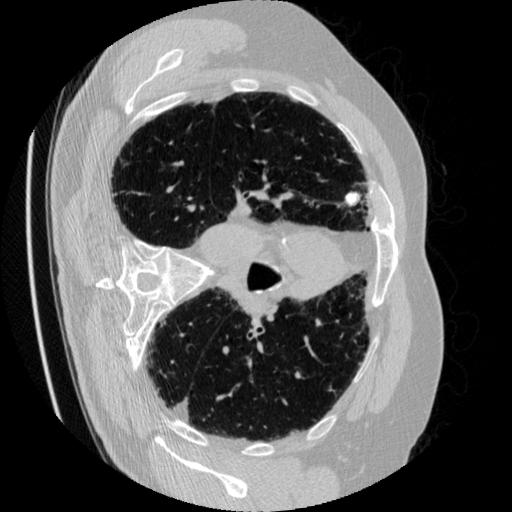nodule: (343, 191, 365, 213)
